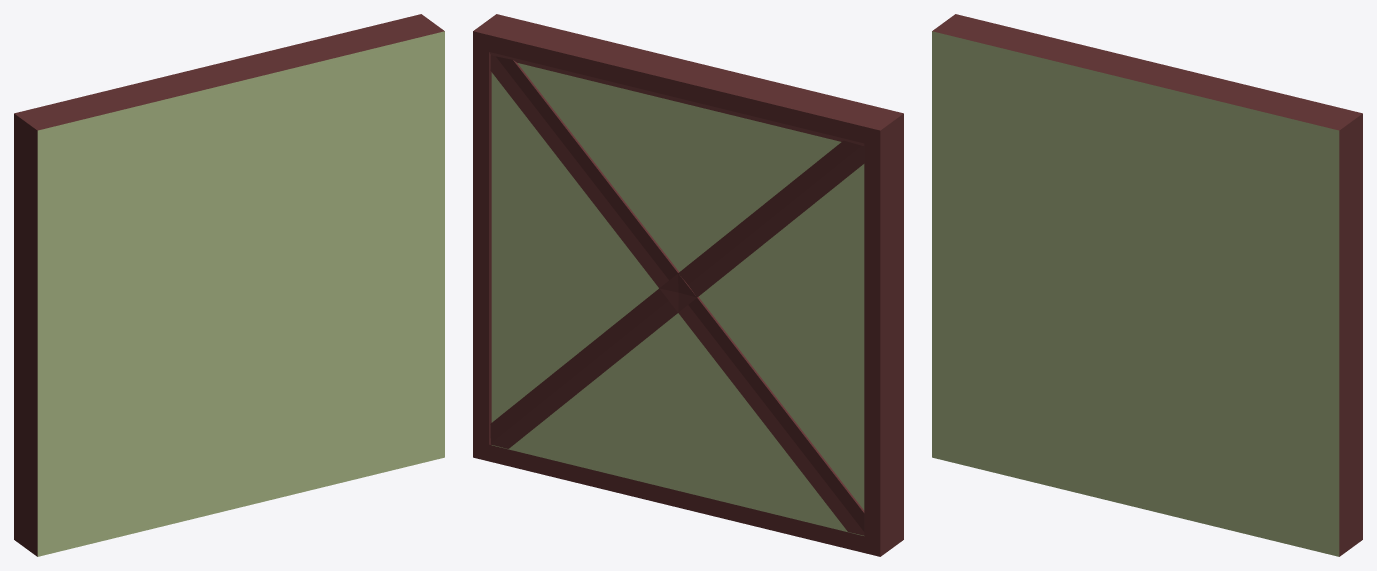
The model's file is Wall_200.fbx.
3 views of the same model, side by side, from view 1: azimuth 30°, elevation 25°; view 2: azimuth 150°, elevation 25°; view 3: azimuth 330°, elevation 25° (orthographic).
Parts seen in each view (by area): view 1: Wall_200.K; view 2: Wall_200.K; view 3: Wall_200.K.
Part boxes in pixels (left/top/right/bottom): Wall_200.K: left=14, top=14, right=444, bottom=556; Wall_200.K: left=473, top=14, right=903, bottom=556; Wall_200.K: left=932, top=14, right=1362, bottom=556.
Bounding box in the file's own units: 2 × 2 × 0.2.
